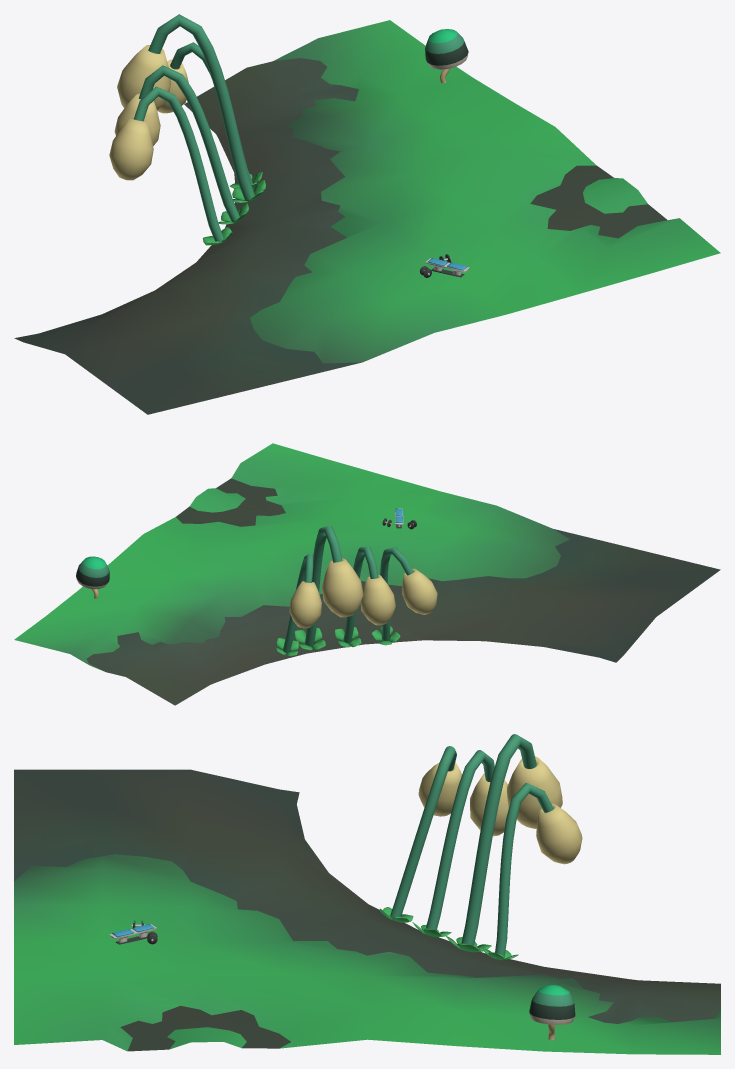
File: LevelC1.fbx
3 views of the same model, one above another, from view 1: azimuth 30°, elevation 25°; view 2: azimuth 150°, elevation 25°; view 3: azimuth 270°, elevation 25° (orthographic). The views are drawn at different scales.
Visible parts, largest first — view 1: GroundC1, Rush, Rush.003, Rush.002, MushroomB.006, Rush.001; view 2: GroundC1, Rush, Rush.002, Rush.003, Rush.001, MushroomB.006; view 3: GroundC1, Rush, Rush.001, Rush.002, Rush.003, MushroomB.006.
Boxes of the visible parts, x1,y1,x2,y2 form: GroundC1: (14,20,720,414); Rush: (117,14,265,202); Rush.003: (109,86,232,245); Rush.002: (114,65,248,224); MushroomB.006: (425,29,468,83); Rush.001: (157,42,262,188); GroundC1: (14,443,720,705); Rush: (294,526,363,650); Rush.002: (335,546,395,647); Rush.003: (371,547,437,645); Rush.001: (276,554,321,656); MushroomB.006: (76,556,109,598); GroundC1: (14,769,720,1054); Rush: (445,734,562,952); Rush.001: (482,783,582,960); Rush.002: (412,750,508,937); Rush.003: (379,746,461,922); MushroomB.006: (529,985,575,1040).
Size of the model in its own units: 9057 by 2784 by 9057.
